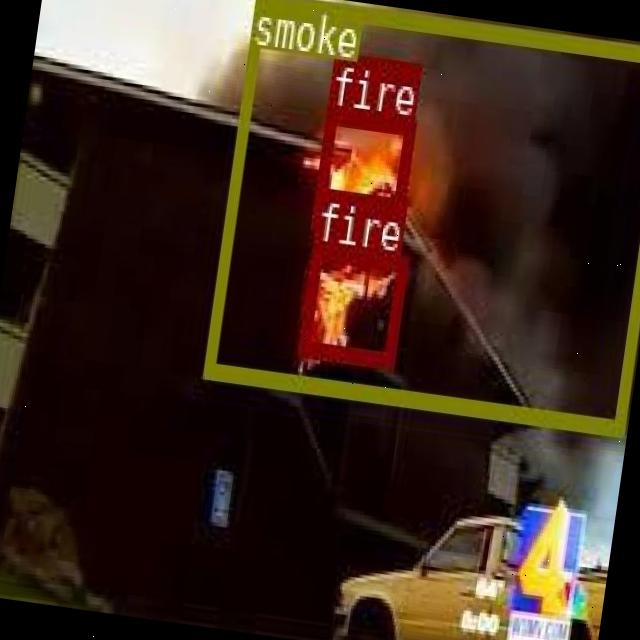fire: (297, 242, 408, 366), (309, 107, 415, 236)
smoke: (201, 0, 640, 433)
